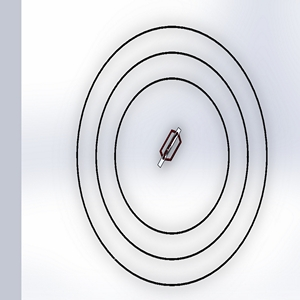circle: (71, 21, 274, 290)
submarine: (150, 123, 190, 173)
